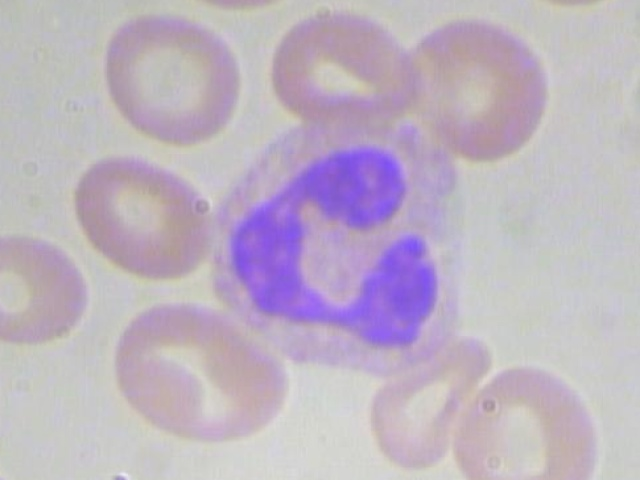RBC: (112, 294, 291, 455), (393, 16, 568, 162), (91, 10, 254, 150), (64, 145, 227, 285), (350, 333, 497, 470), (451, 357, 613, 480), (264, 0, 415, 124), (0, 230, 86, 344), (0, 462, 41, 480), (637, 6, 640, 113)
WBC: (203, 107, 506, 368)
